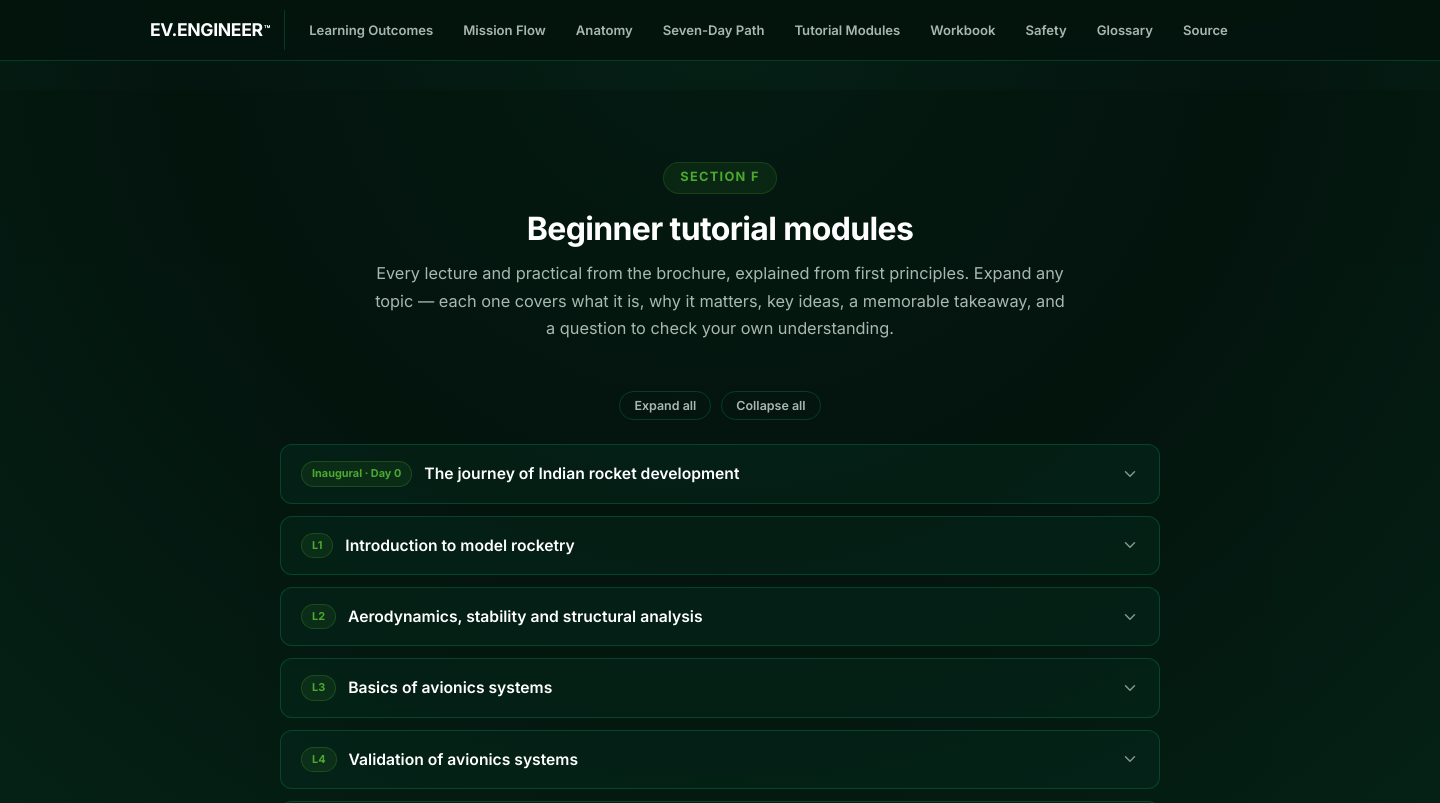
Scenario: Model Rocketry learning guide page › expand-all and collapse-all controls toggle every tutorial module
(page scrolled)
Click the button "Expand all". click: click(665, 406)
box: [619,391,711,420]
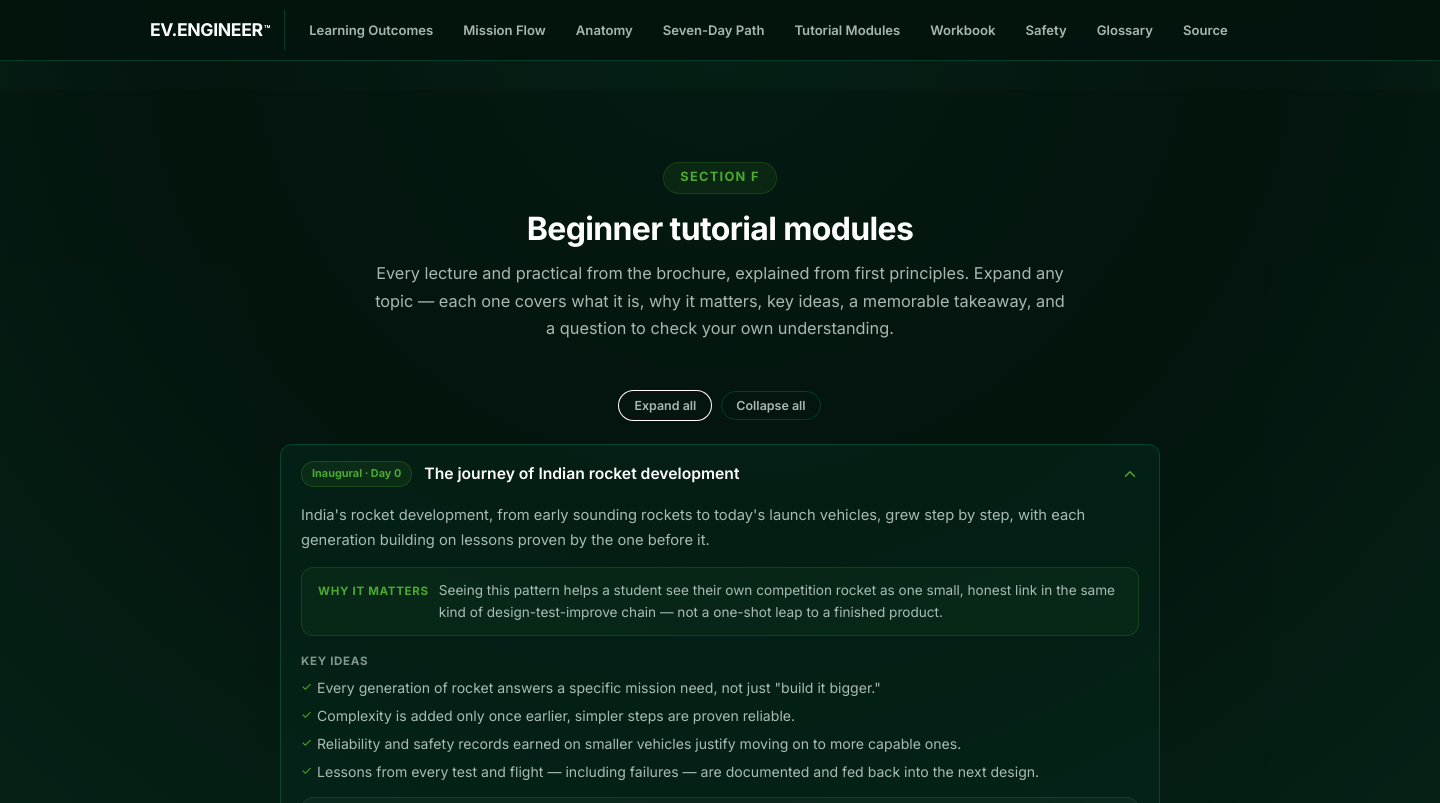
Check: the button "Inaugural · Day 0 The journey of Indian rocket development" is expanded, box [281,445,1159,502]
Click the button "Collapse all". click: click(771, 406)
box: [721,391,821,420]
(page scrolled)
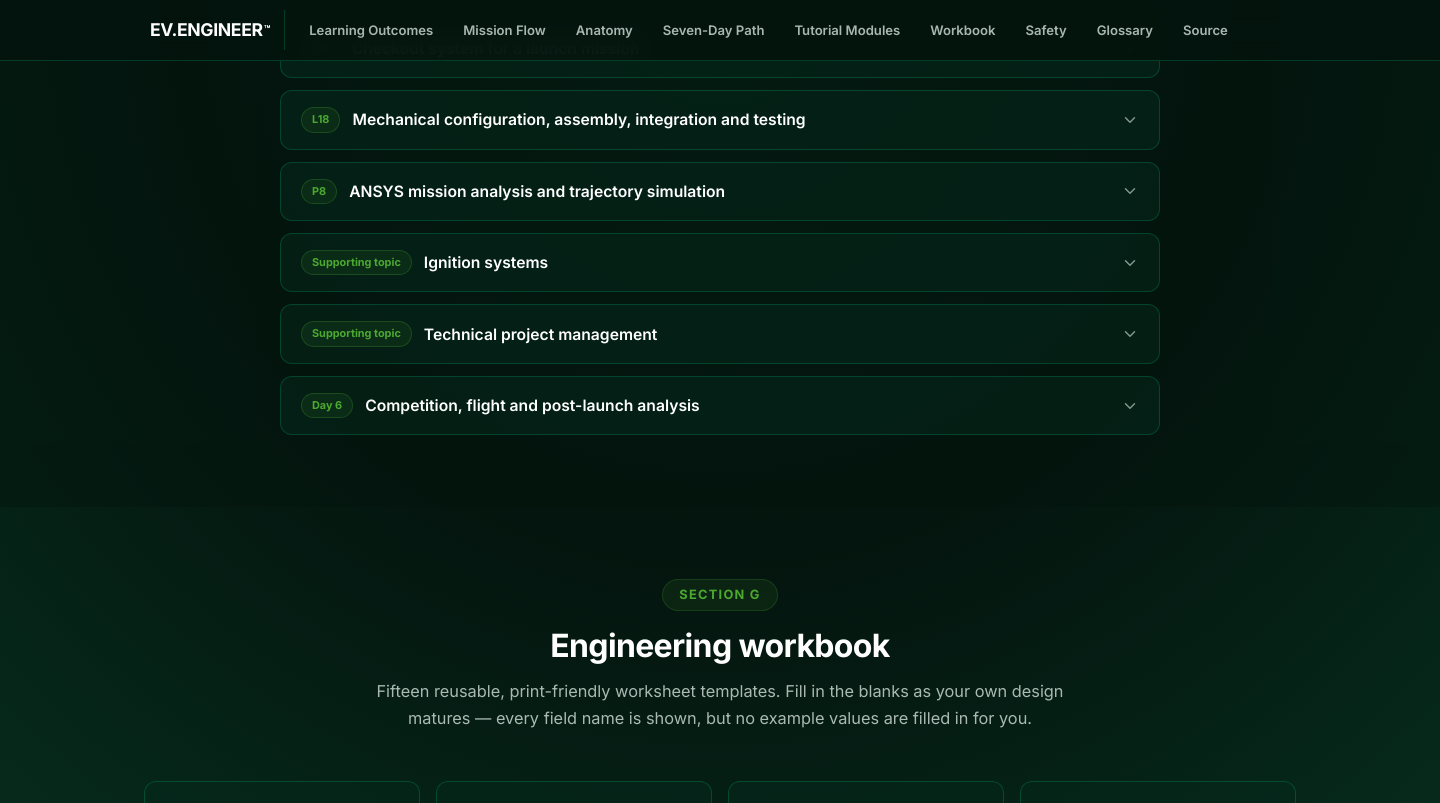
Check: the button that starts with "L18" is collapsed, box [281,91,1159,149]
Check: the button "P8 ANSYS mission analysis and trajectory simulation" is collapsed, box [281,163,1159,220]
Check: the button "Supporting topic Ignition systems" is collapsed, box [281,234,1159,292]
